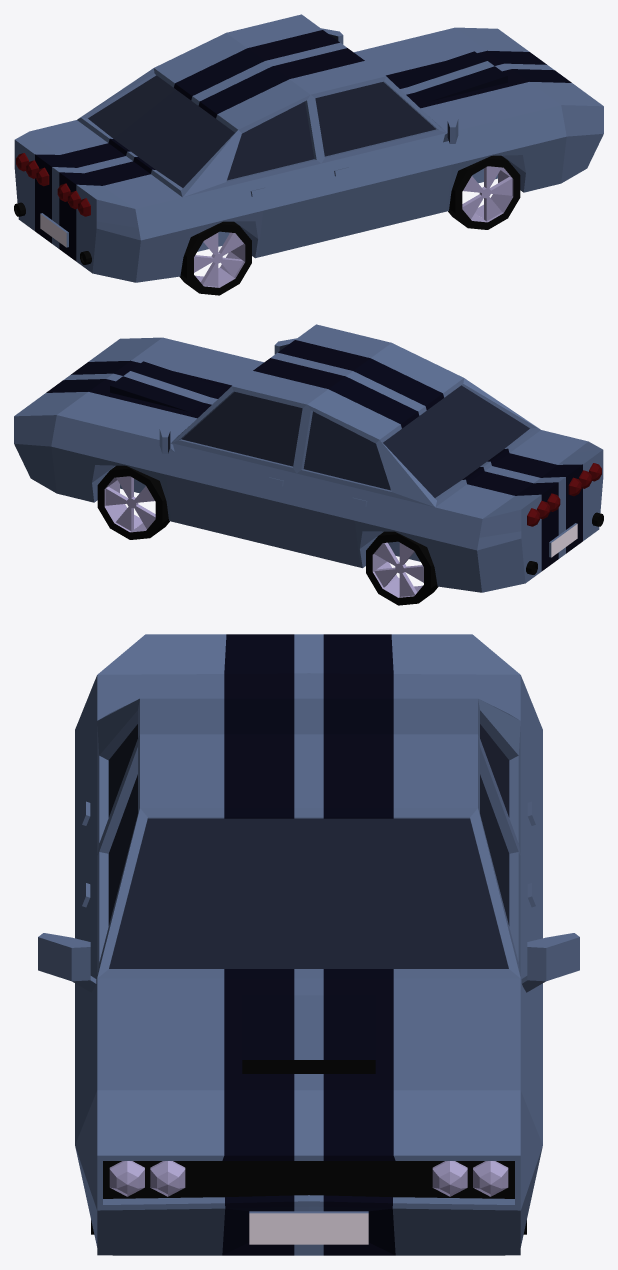
Rendered from muscle2.glb.
3 views of the same model, one above another, from view 1: azimuth 30°, elevation 25°; view 2: azimuth 150°, elevation 25°; view 3: azimuth 270°, elevation 25° (orthographic). The views are drawn at different scales.
Parts seen in each view (by area): view 1: body_paint, body_glass, body_trim, wheel_rr_rim (×2), wheel_fr_tire (×2), wheel_fr_rim, wheel_rr_tire, body_tail, body_chrome; view 2: body_paint, body_glass, body_trim, wheel_rl_rim (×2), wheel_fl_tire (×2), wheel_fl_rim, wheel_rl_tire, body_tail, body_chrome; view 3: body_paint, body_glass, body_trim, body_tire, body_lamp, body_chrome.
Boxes of the visible parts, x1,y1,x2,y2 form: body_paint: (14,14,603,282); body_glass: (88,34,449,187); body_trim: (35,30,571,261); wheel_rr_rim (×2): (194,232,245,287); wheel_fr_tire (×2): (448,155,520,229); wheel_fr_rim: (462,166,513,222); wheel_rr_tire: (184,223,251,295); body_tail: (16,153,90,216); body_chrome: (40,214,66,247); body_paint: (14,324,603,592); body_glass: (168,344,529,497); body_trim: (46,340,582,571); wheel_rl_rim (×2): (372,542,423,597); wheel_fl_tire (×2): (97,465,169,539); wheel_fl_rim: (104,476,155,532); wheel_rl_tire: (366,533,433,605); body_tail: (527,463,601,526); body_chrome: (551,524,577,557); body_paint: (38,634,579,1255); body_glass: (108,724,509,968); body_trim: (222,634,395,1255); body_tire: (103,1060,514,1198); body_lamp: (109,1161,508,1196); body_chrome: (249,1213,368,1244).
Bounding box in the file's own units: 6.06 × 1.91 × 2.81.
